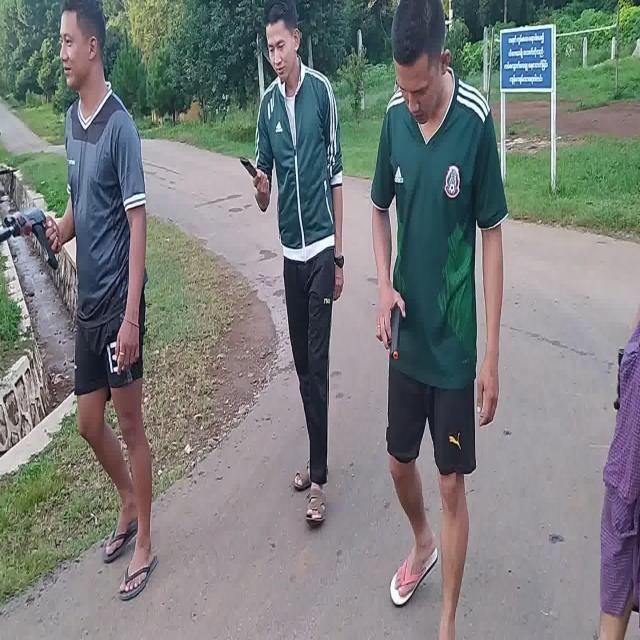gun: (2, 209, 60, 269), (391, 307, 400, 356)
